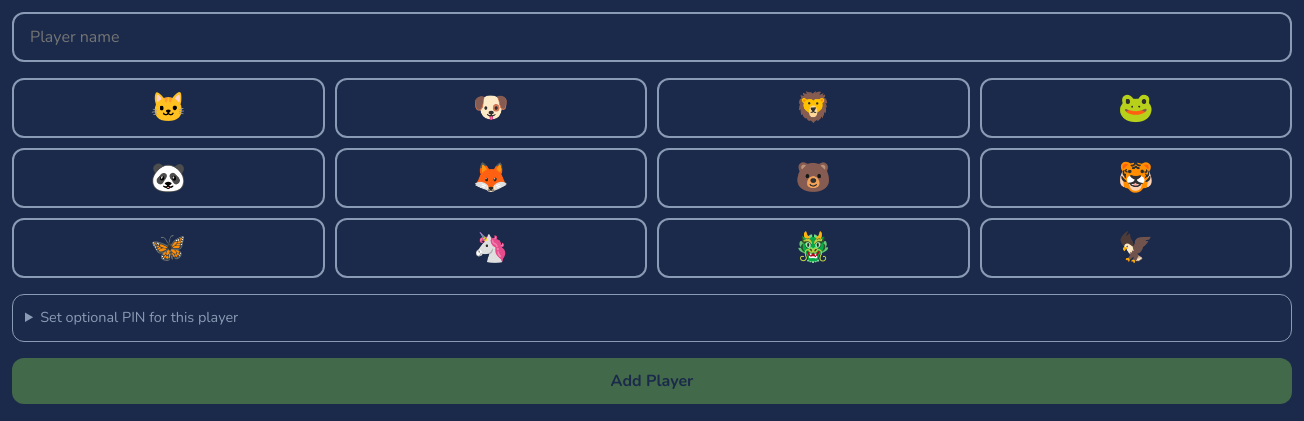
Test: AddPlayerForm › enables Add Player button when name is filled
Type "Sam" into the field labelled "Player name" at point(652, 37), box left=12, top=12, right=1292, bottom=62
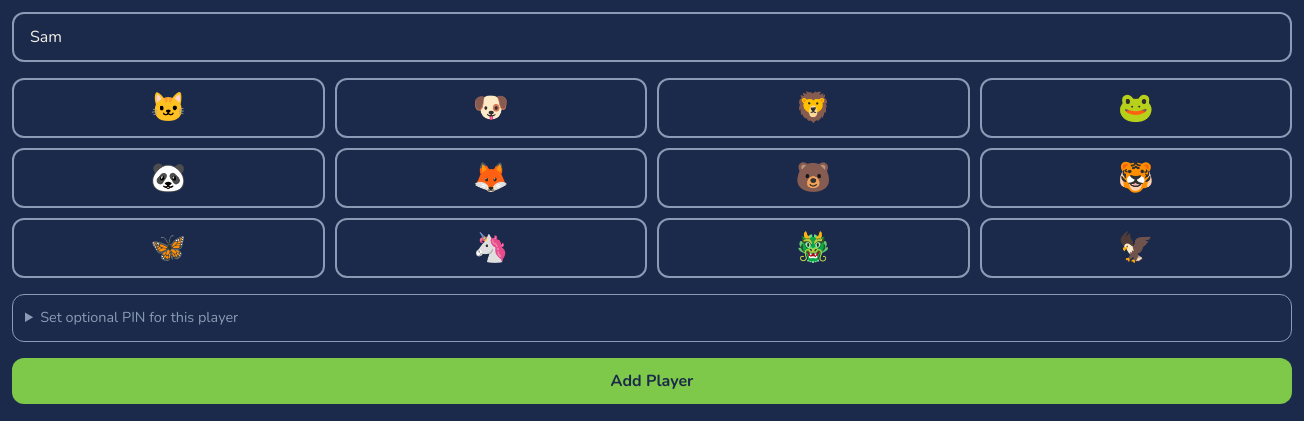
Expected: the button "Add Player" is enabled, left=12, top=358, right=1292, bottom=404
